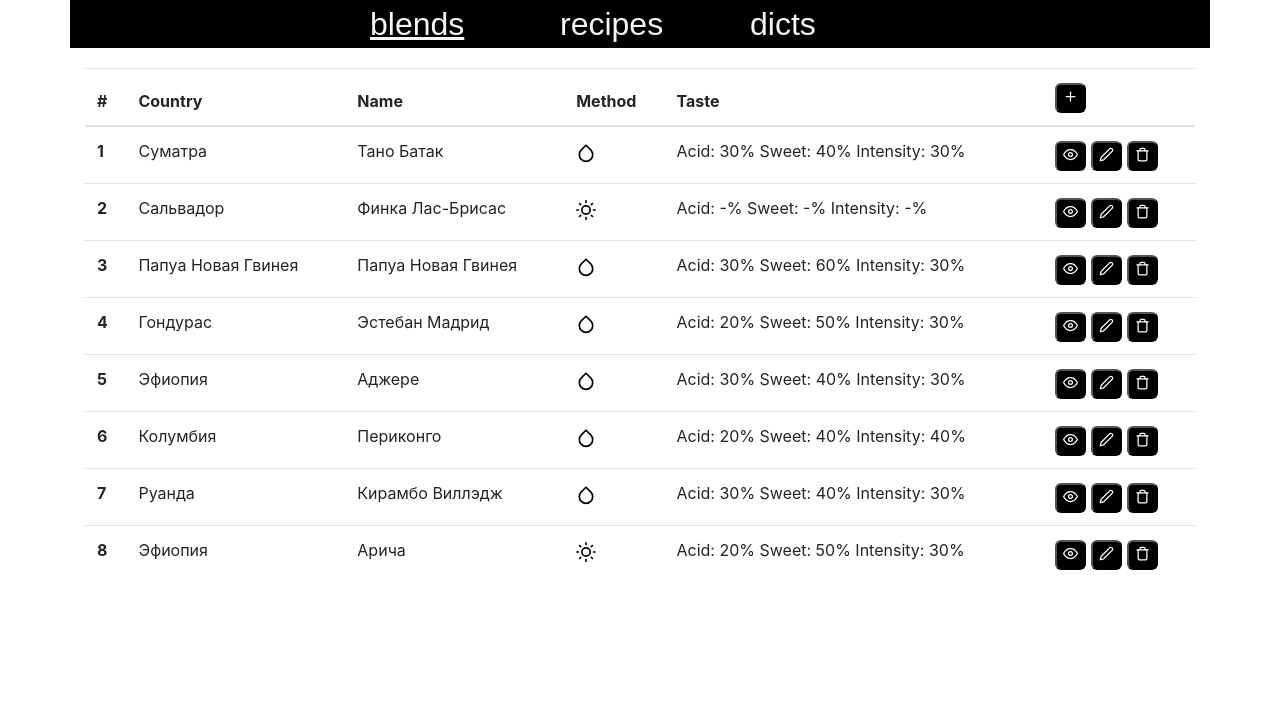
blends page spec › blends add value spec › should show validation errors for required fields
Click the button with test id "add_btn" at coordinates (1071, 98), box [1055,83,1086,113]
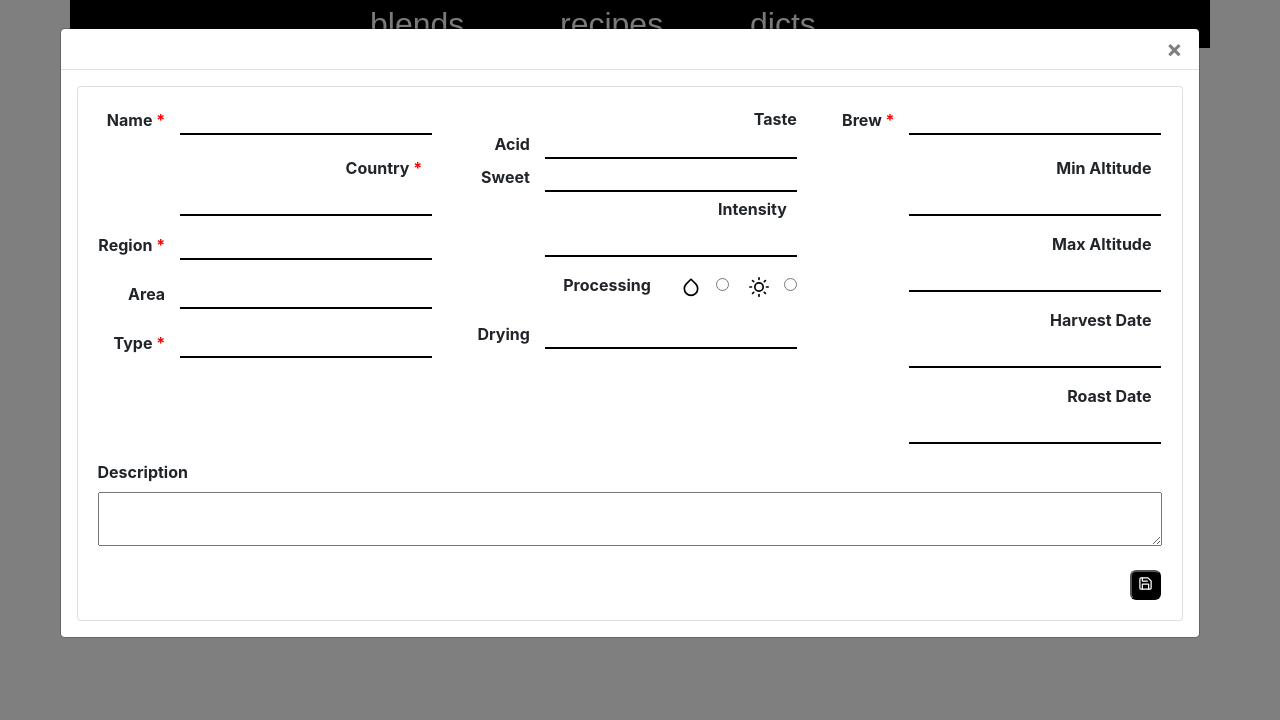
Click the button with test id "button_submit" at coordinates (1147, 585), box [1131,570,1162,600]
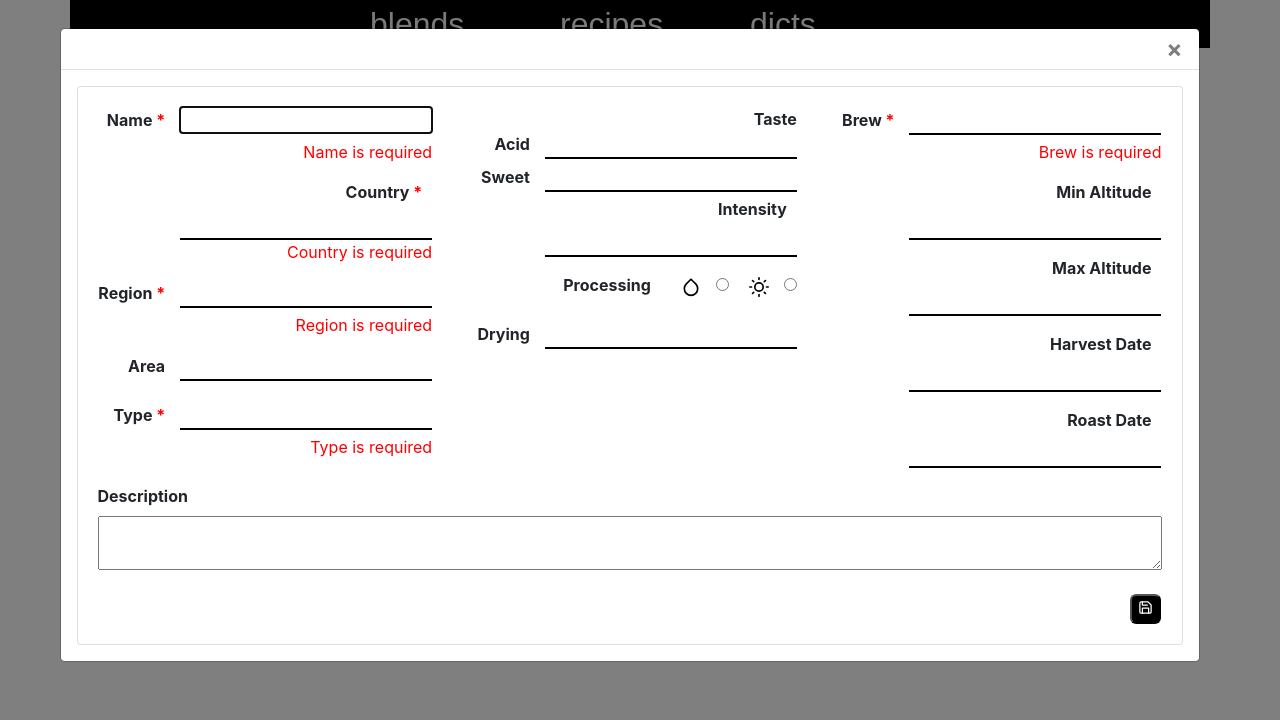
Check: the dialog with class "modal" is shown
Check: the text "Name is required" is shown, box [303,142,432,162]
Check: the text "Country is required" is shown, box [287,242,432,262]
